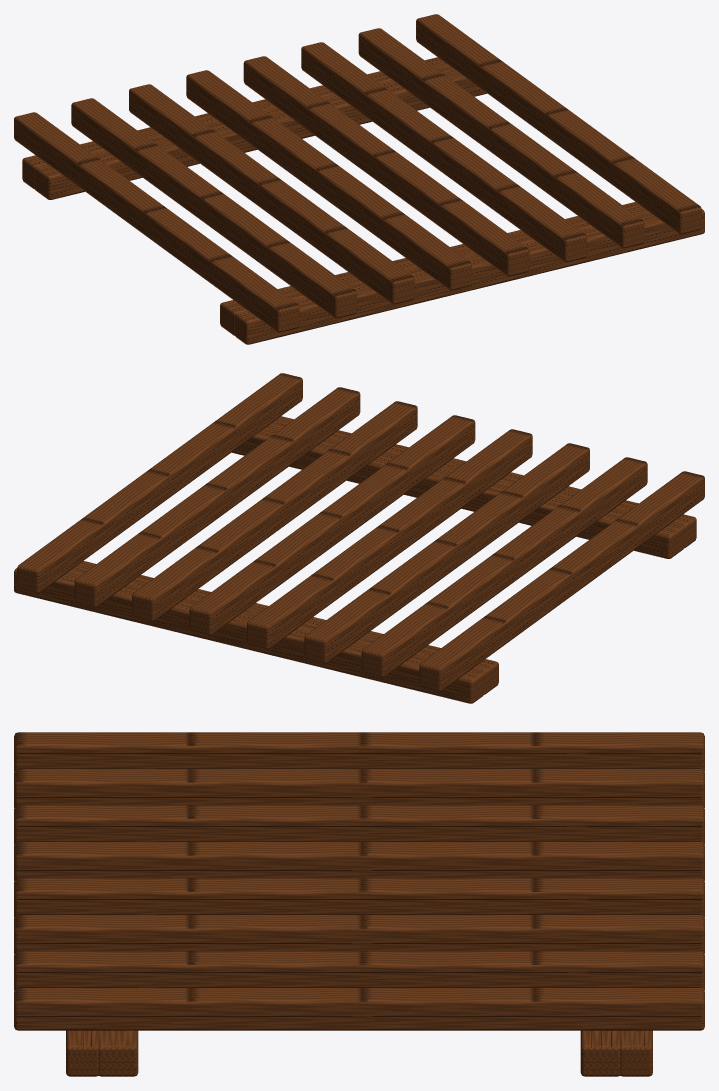
The model's file is modular-survival-base-builder-roof-open-pergola-9cfe1b8c__24185.glb.
The picture shows the model from 3 angles, top to bottom: view 1: azimuth 30°, elevation 25°; view 2: azimuth 150°, elevation 25°; view 3: azimuth 270°, elevation 25°; orthographic projection. The views are drawn at different scales.
Visible parts, largest first — view 1: roof-open-pergola; view 2: roof-open-pergola; view 3: roof-open-pergola.
Boxes of the visible parts, x1,y1,x2,y2 form: roof-open-pergola: (14,14,704,344); roof-open-pergola: (14,373,704,703); roof-open-pergola: (14,732,704,1076).
Bounding box in the file's own units: 2 × 0.2 × 2.
1 material, 1 textured.
